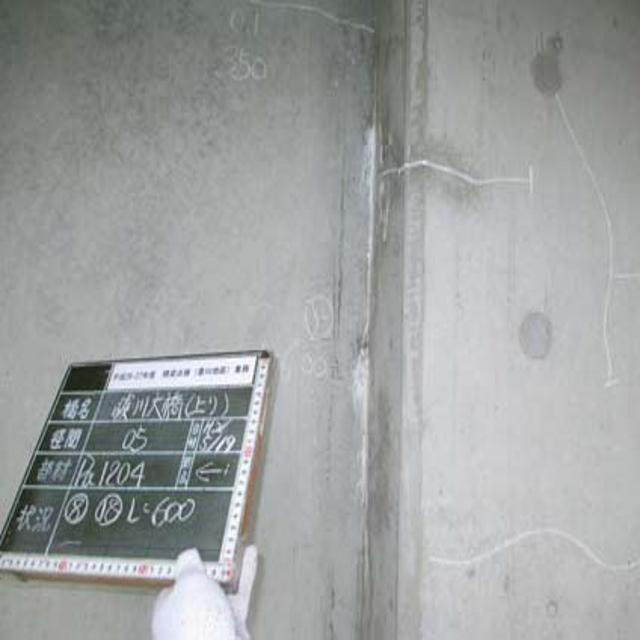freelime: (340, 114, 396, 499)
